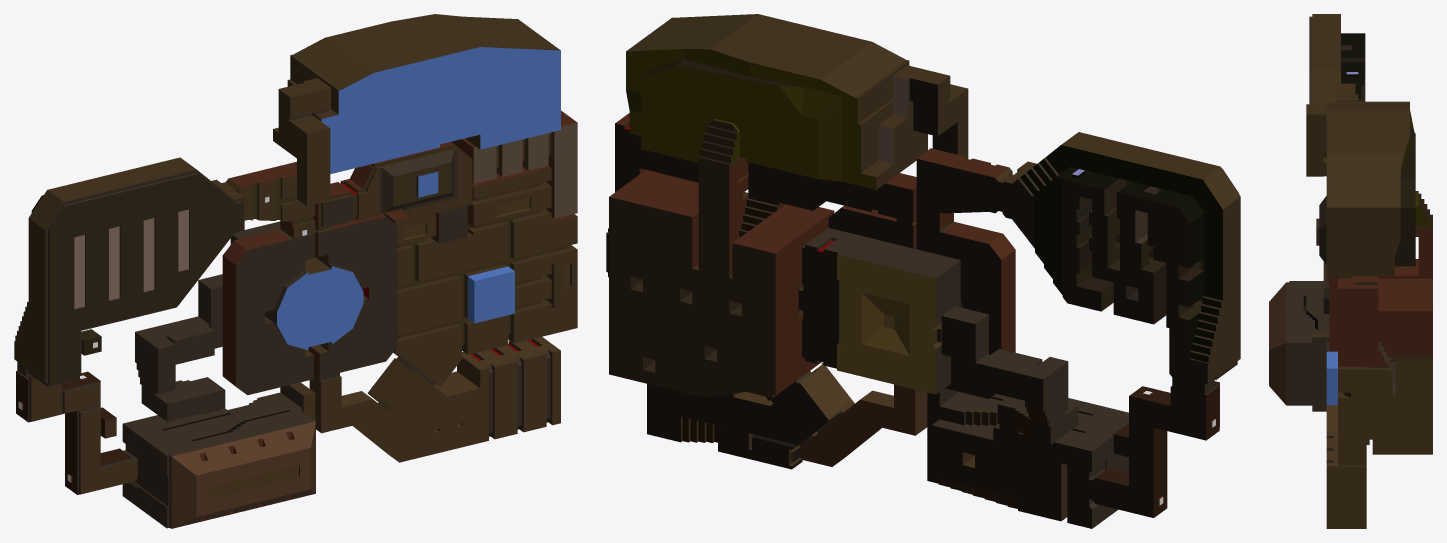
3 renders of one model, left to right at view 1: azimuth 30°, elevation 25°; view 2: azimuth 150°, elevation 25°; view 3: azimuth 270°, elevation 25°, orthographic. The views are drawn at different scales.
Visible parts, largest first — view 1: dm3; view 2: dm3; view 3: dm3.
Part boxes in pixels (bbox=[...]): dm3: bbox=[14, 14, 577, 528]; dm3: bbox=[606, 14, 1240, 528]; dm3: bbox=[1269, 14, 1432, 528].
Size of the model in its own units: 3032 by 2096 by 912.
53 materials, 53 textured.
